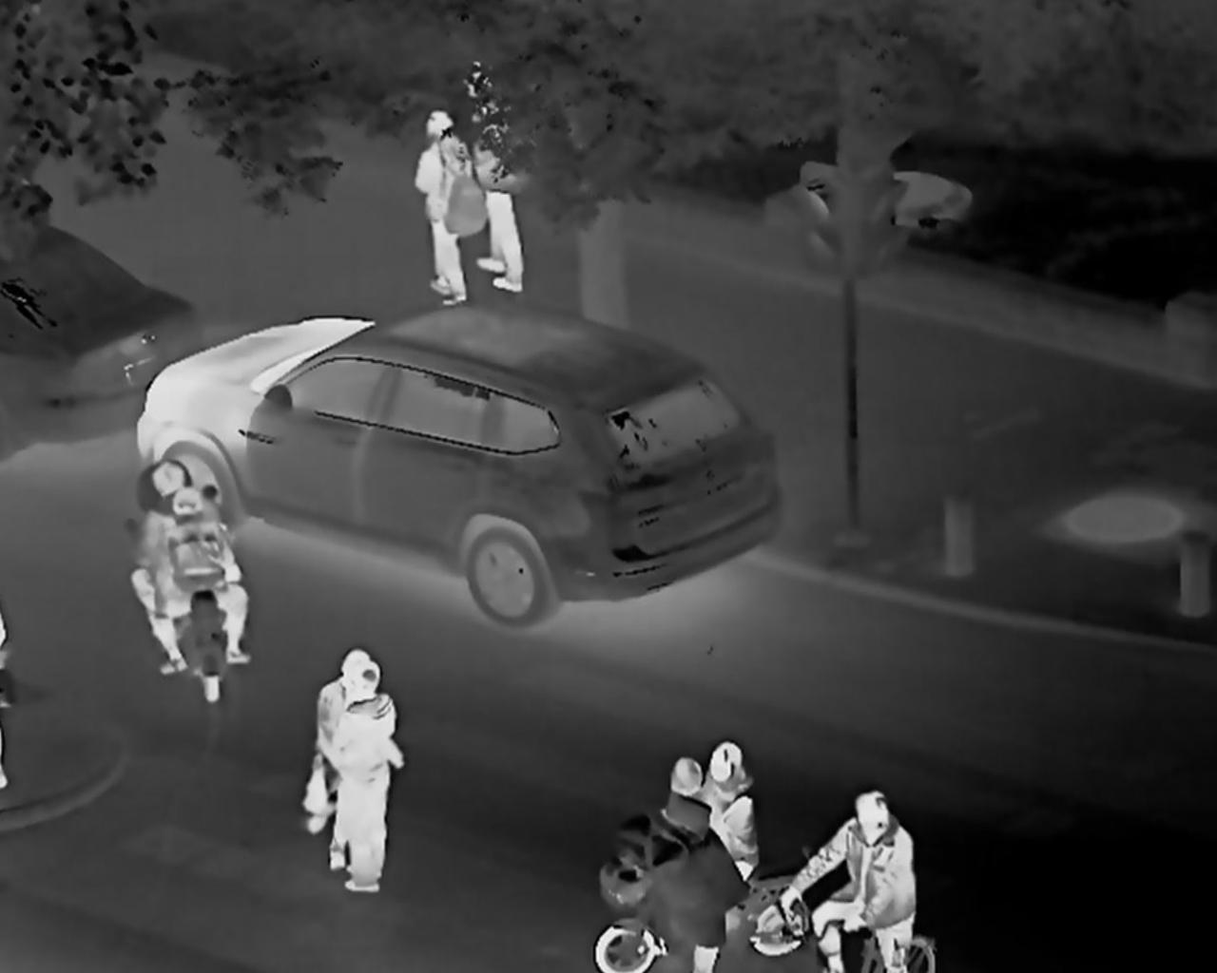person: (819, 782, 924, 972), (466, 74, 545, 318), (329, 622, 397, 896), (155, 467, 255, 641), (405, 117, 460, 284), (648, 735, 709, 868), (723, 733, 769, 891)
